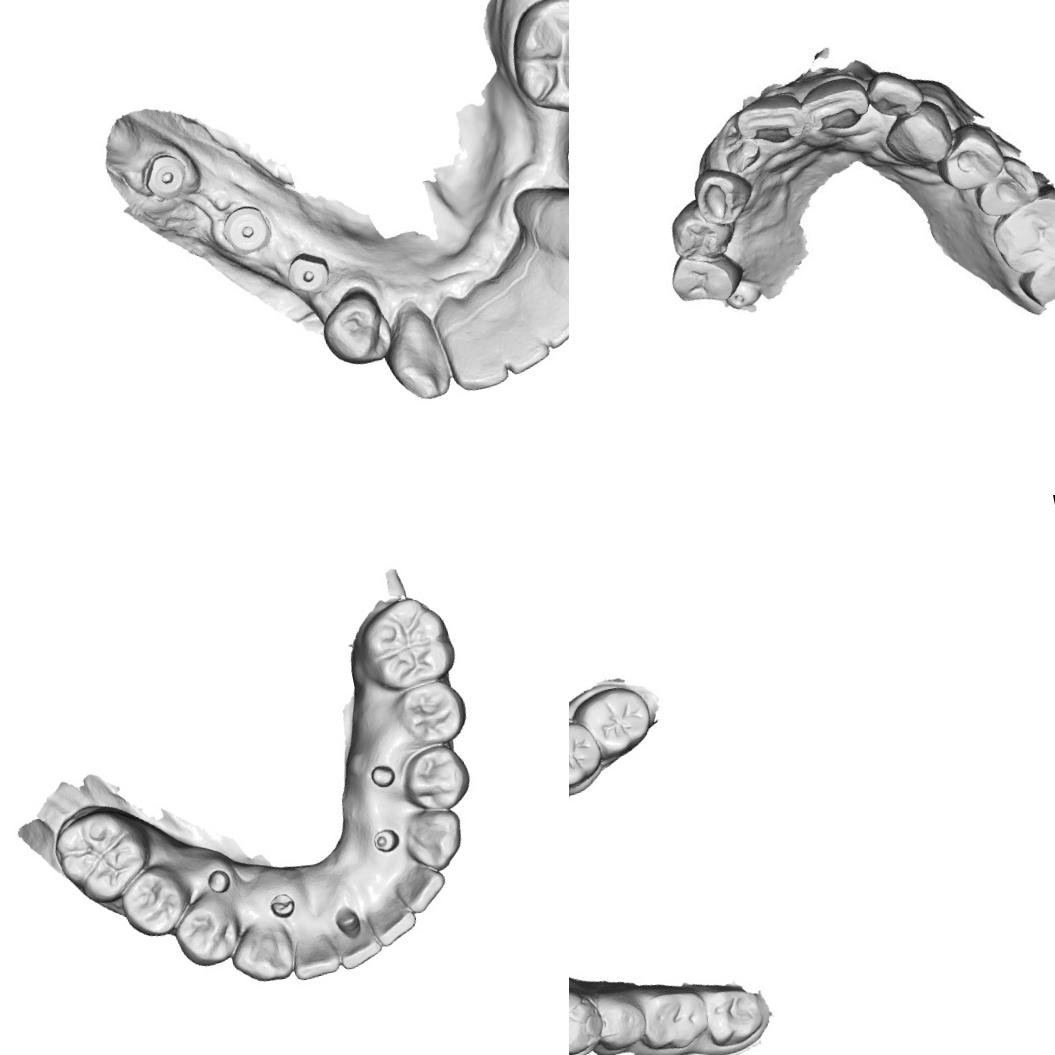canine: (380, 304, 453, 406), (226, 916, 298, 990), (881, 102, 955, 170), (402, 804, 468, 874), (529, 178, 569, 277), (693, 168, 752, 223)
implant: (136, 147, 197, 206), (218, 202, 273, 256), (282, 244, 332, 294)
incisor: (440, 317, 512, 392), (794, 72, 866, 130), (493, 316, 557, 380), (362, 889, 421, 952), (734, 93, 802, 146), (394, 861, 452, 916), (867, 66, 921, 123), (286, 932, 345, 983), (527, 292, 569, 352), (333, 924, 386, 971), (550, 256, 569, 319)
molar: (49, 799, 157, 907), (354, 594, 458, 692), (499, 0, 569, 124), (569, 679, 658, 766), (632, 982, 713, 1055), (990, 194, 1055, 275), (666, 246, 742, 310), (700, 982, 768, 1050), (666, 202, 735, 264), (972, 159, 1038, 214), (569, 714, 606, 794)
premolar: (312, 284, 398, 374), (118, 864, 192, 943), (392, 674, 472, 746), (396, 740, 473, 814), (171, 894, 242, 970), (937, 125, 1007, 192), (594, 986, 650, 1051), (569, 992, 604, 1055)
